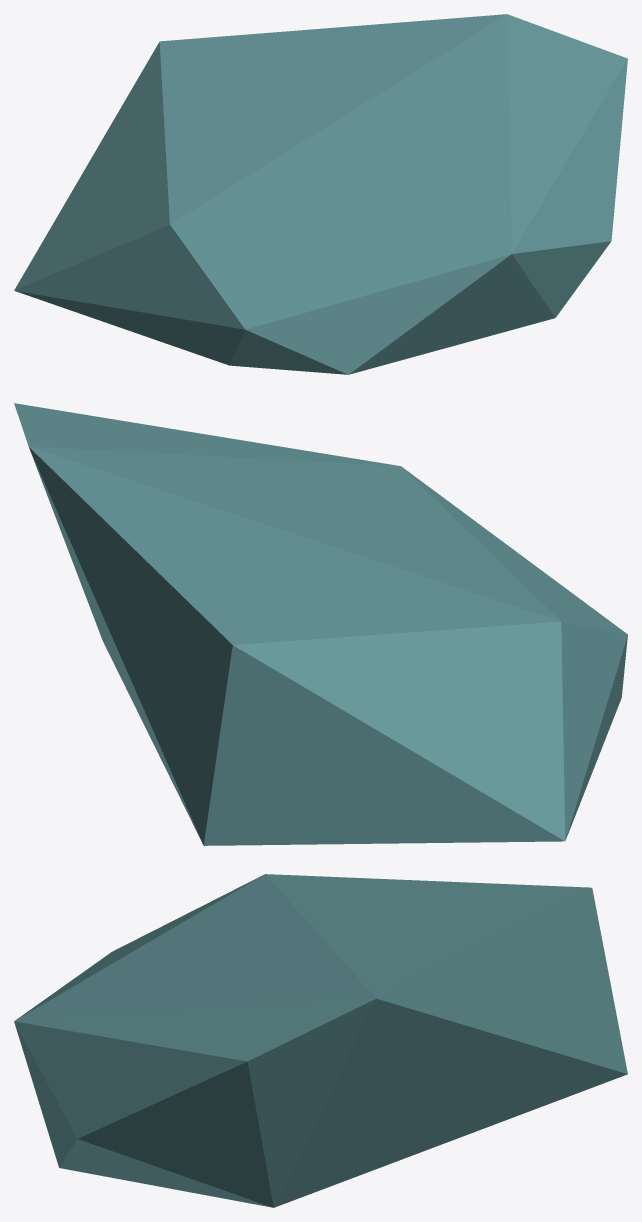
The model's file is Boulder_06_Collider_01.FBX.
3 views of the same model, one above another, from view 1: azimuth 30°, elevation 25°; view 2: azimuth 150°, elevation 25°; view 3: azimuth 270°, elevation 25° (orthographic). The views are drawn at different scales.
Visible parts, largest first — view 1: COLLIDER1; view 2: COLLIDER1; view 3: COLLIDER1.
Boxes of the visible parts, bbox=[...] form: COLLIDER1: bbox=[14, 14, 627, 374]; COLLIDER1: bbox=[14, 403, 627, 845]; COLLIDER1: bbox=[14, 874, 627, 1207].
Bounding box in the file's own units: 90.86 × 30.29 × 76.98.
